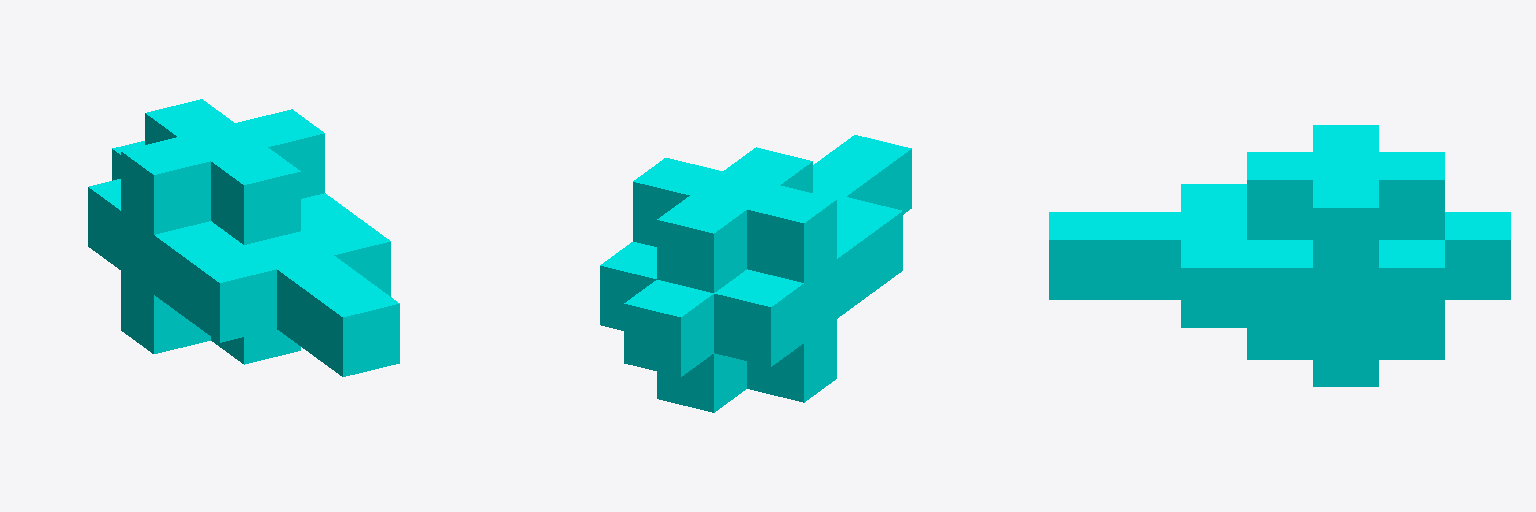
3 renders of one model, left to right at view 1: azimuth 30°, elevation 25°; view 2: azimuth 150°, elevation 25°; view 3: azimuth 270°, elevation 25°, orthographic.
Bounding box in the file's own units: 3 × 3 × 7.
Materials: 1 (1 with a texture image).